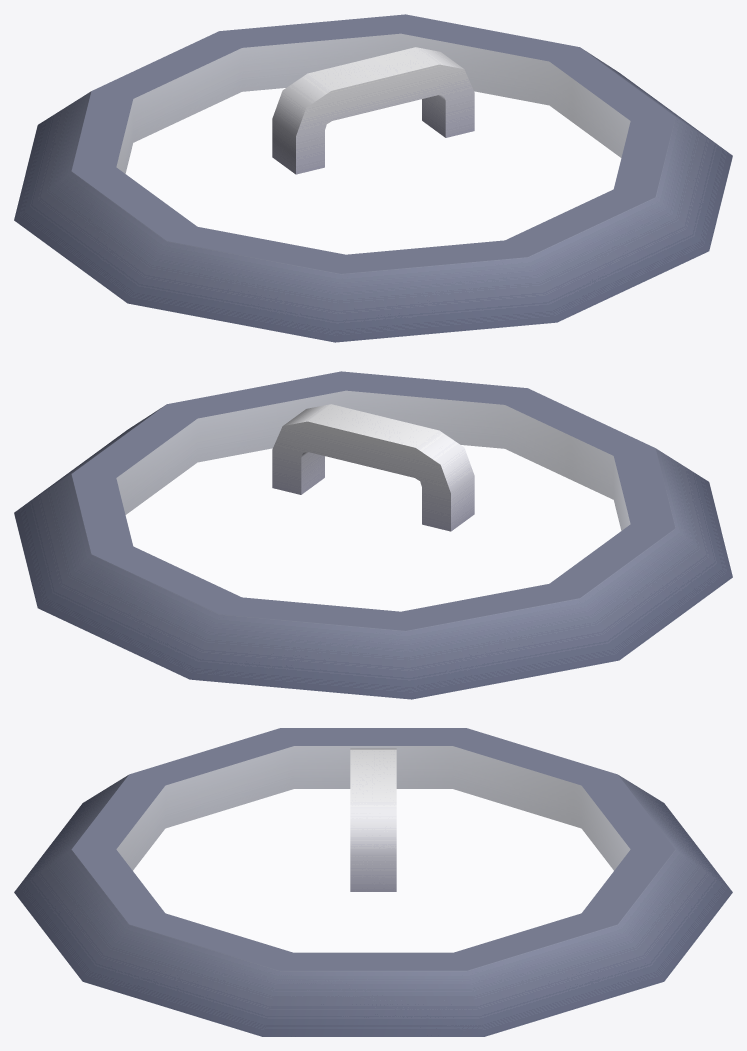
File: frying-pan-lid.glb
3 renders of one model, top to bottom at view 1: azimuth 30°, elevation 25°; view 2: azimuth 150°, elevation 25°; view 3: azimuth 270°, elevation 25°, orthographic. The views are drawn at different scales.
Parts seen in each view (by area): view 1: frying-pan-lid, (%ignore); view 2: frying-pan-lid, (%ignore); view 3: frying-pan-lid, (%ignore).
Boxes of the visible parts, x1=… form: frying-pan-lid: x1=14, y1=14, x2=732, y2=342; (%ignore): x1=116, y1=33, x2=630, y2=254; frying-pan-lid: x1=14, y1=371, x2=732, y2=699; (%ignore): x1=116, y1=390, x2=630, y2=611; frying-pan-lid: x1=14, y1=728, x2=732, y2=1036; (%ignore): x1=116, y1=746, x2=630, y2=952.
Size of the model in its own units: 0.5767 by 0.1084 by 0.6064.
Materials: 2 (1 with a texture image).
